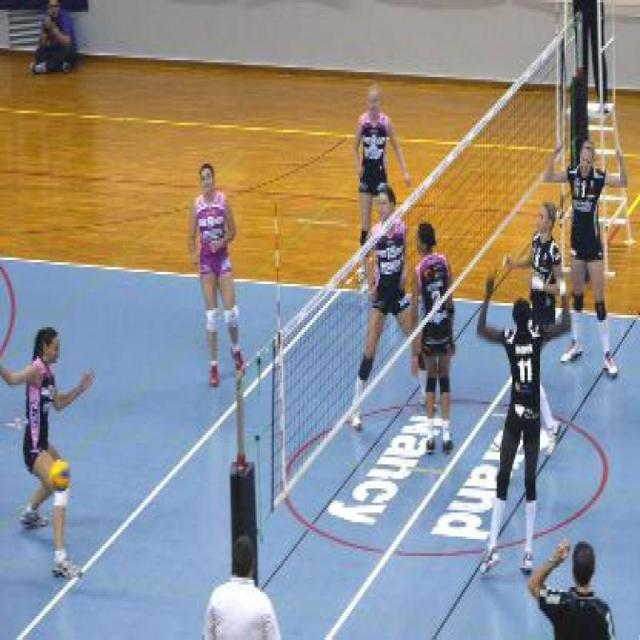volleyball: (48, 460, 70, 490)
